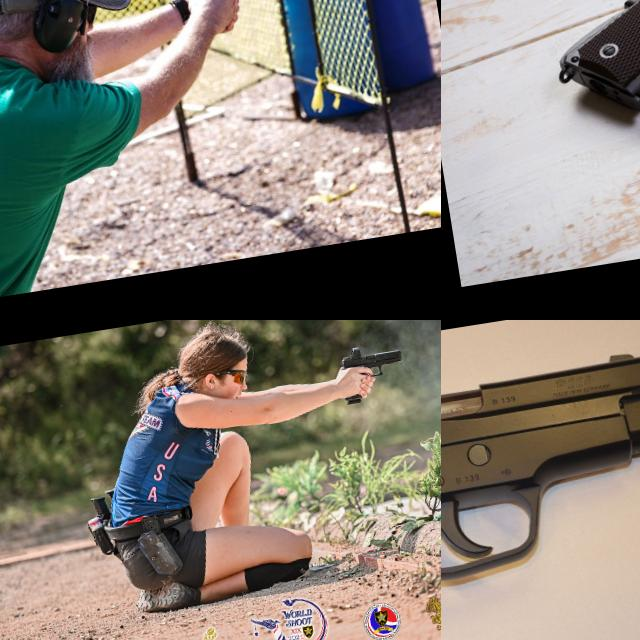handgun: (441, 341, 640, 640), (534, 0, 640, 130), (336, 338, 406, 383), (189, 0, 248, 18)
